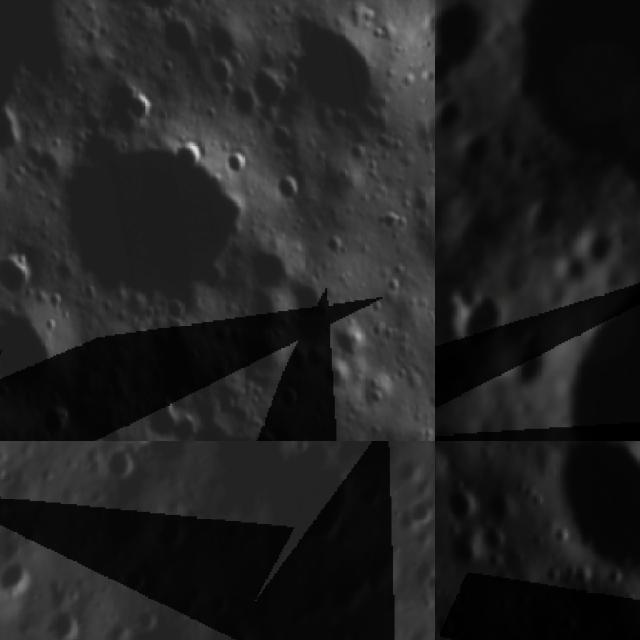crater: (435, 98, 640, 441), (30, 98, 267, 338), (463, 0, 640, 261), (510, 441, 640, 614), (275, 1, 401, 138), (246, 456, 372, 562), (0, 278, 98, 414), (0, 0, 111, 100), (438, 276, 524, 362), (478, 321, 564, 406), (446, 114, 520, 188), (562, 206, 633, 278), (435, 0, 502, 72), (222, 318, 288, 389), (508, 190, 572, 252), (541, 238, 601, 300), (283, 269, 334, 335), (435, 469, 488, 532), (202, 8, 257, 68), (435, 521, 487, 578), (435, 77, 479, 140), (220, 75, 266, 129), (466, 510, 515, 560), (101, 442, 145, 492), (198, 602, 253, 640), (147, 397, 194, 441), (0, 247, 38, 301), (114, 0, 202, 23), (150, 506, 193, 553), (332, 325, 372, 368), (435, 592, 468, 640), (435, 441, 462, 499), (0, 547, 29, 598), (121, 84, 158, 123), (48, 601, 85, 640), (320, 354, 356, 394), (114, 558, 158, 590), (222, 143, 251, 179), (406, 492, 435, 528), (272, 171, 302, 205), (249, 425, 283, 441)
